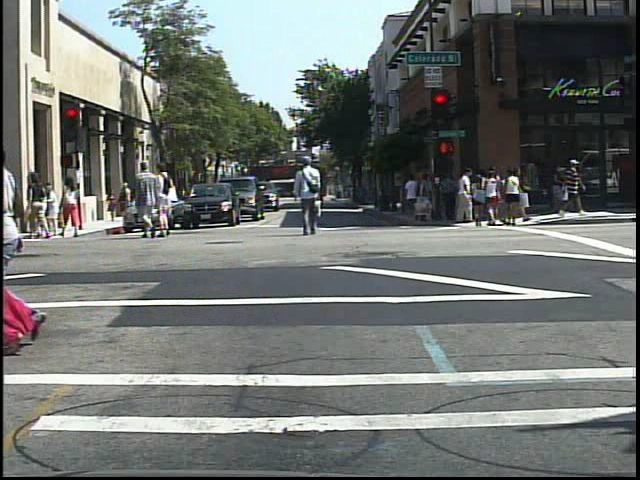person: (4, 130, 59, 356), (294, 153, 329, 242), (132, 157, 165, 242), (556, 154, 589, 218), (27, 167, 55, 239), (61, 171, 84, 240), (158, 161, 178, 239), (469, 172, 487, 231)
